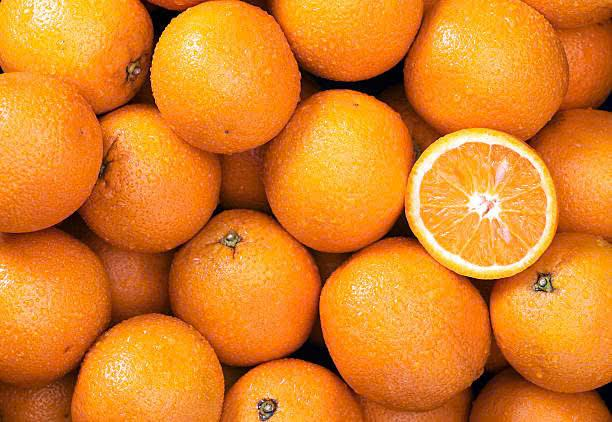orange: (307, 241, 492, 397), (254, 82, 410, 247), (401, 124, 557, 283), (164, 209, 325, 363), (151, 4, 301, 148), (405, 2, 561, 134), (94, 108, 225, 261), (493, 238, 612, 385), (1, 68, 101, 237), (4, 1, 158, 106), (75, 316, 224, 422), (5, 235, 105, 378), (271, 0, 418, 77), (231, 365, 360, 422)
